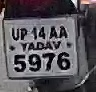1: (31, 25, 38, 41)
4: (38, 24, 45, 40)
5: (11, 53, 28, 74)
6: (56, 51, 71, 73)
7: (40, 51, 56, 74)
9: (28, 52, 43, 72)
A: (59, 24, 69, 40), (49, 24, 58, 41)
P: (18, 27, 28, 41)
U: (10, 26, 20, 41)
